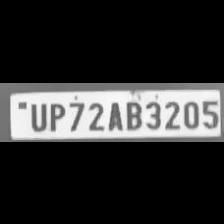0: (180, 96, 200, 128)
2: (84, 97, 104, 130), (162, 97, 180, 128)
3: (144, 97, 162, 128)
5: (200, 96, 218, 128)
7: (64, 97, 86, 130)
A: (104, 98, 122, 130)
B: (122, 98, 142, 130)
P: (46, 99, 64, 131)
U: (26, 99, 46, 130)
